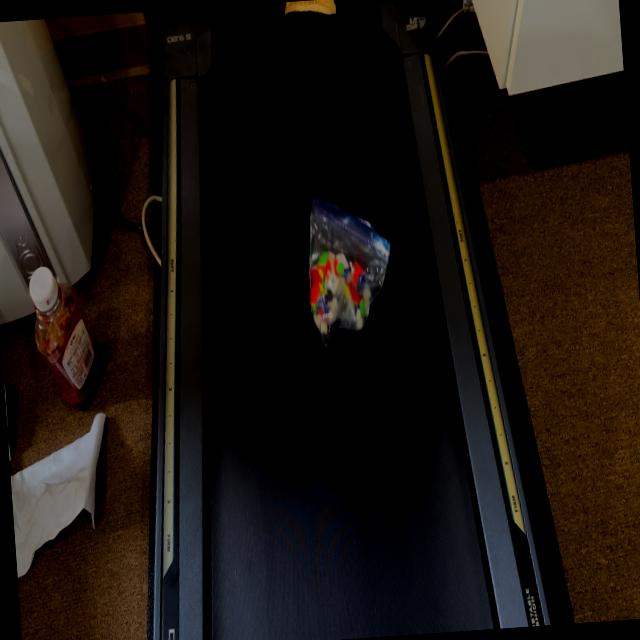Trash: (302, 190, 397, 348)
